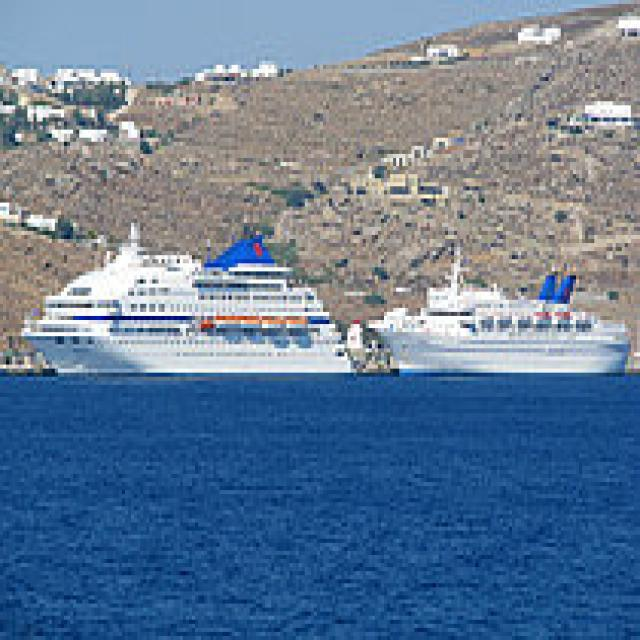Ship: (16, 208, 364, 386), (357, 240, 640, 390)
